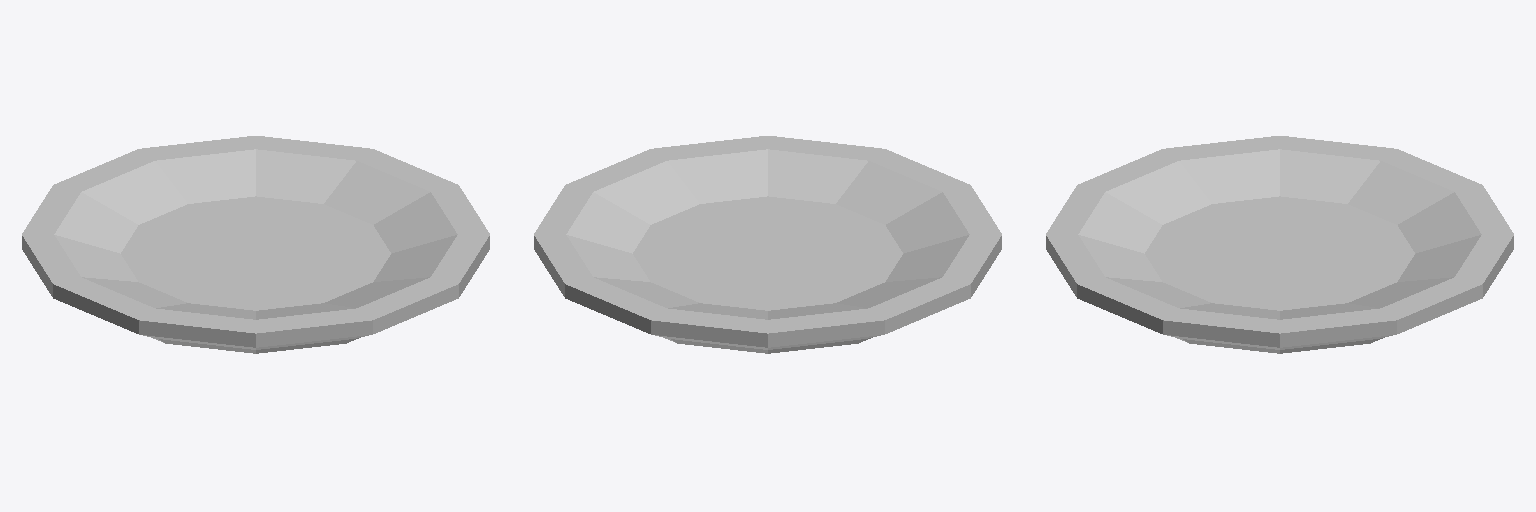
File: plate-broken.obj
3 renders of one model, left to right at view 1: azimuth 30°, elevation 25°; view 2: azimuth 150°, elevation 25°; view 3: azimuth 270°, elevation 25°, orthographic.
Visible parts, largest first — view 1: piece; view 2: piece; view 3: piece.
Boxes of the visible parts, <box> form: piece: <box>22,136,489,353</box>; piece: <box>534,136,1001,353</box>; piece: <box>1046,136,1513,353</box>.
Bounding box in the file's own units: 0.8918 × 0.09 × 0.8918.